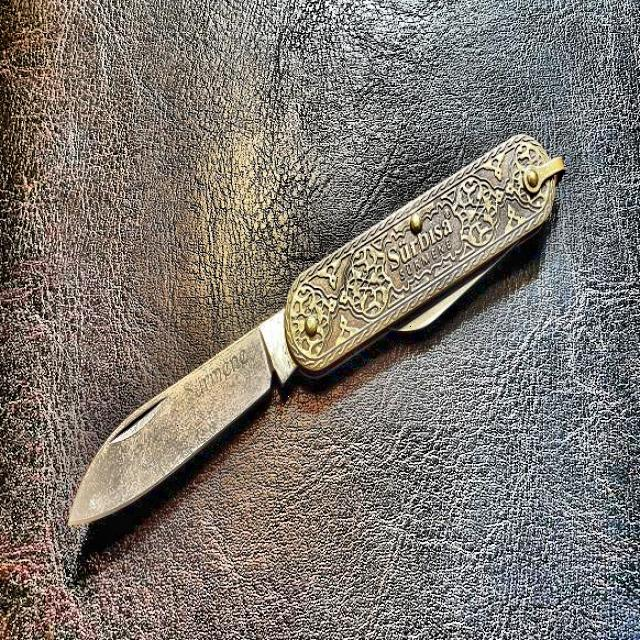knife: (64, 129, 563, 546)
